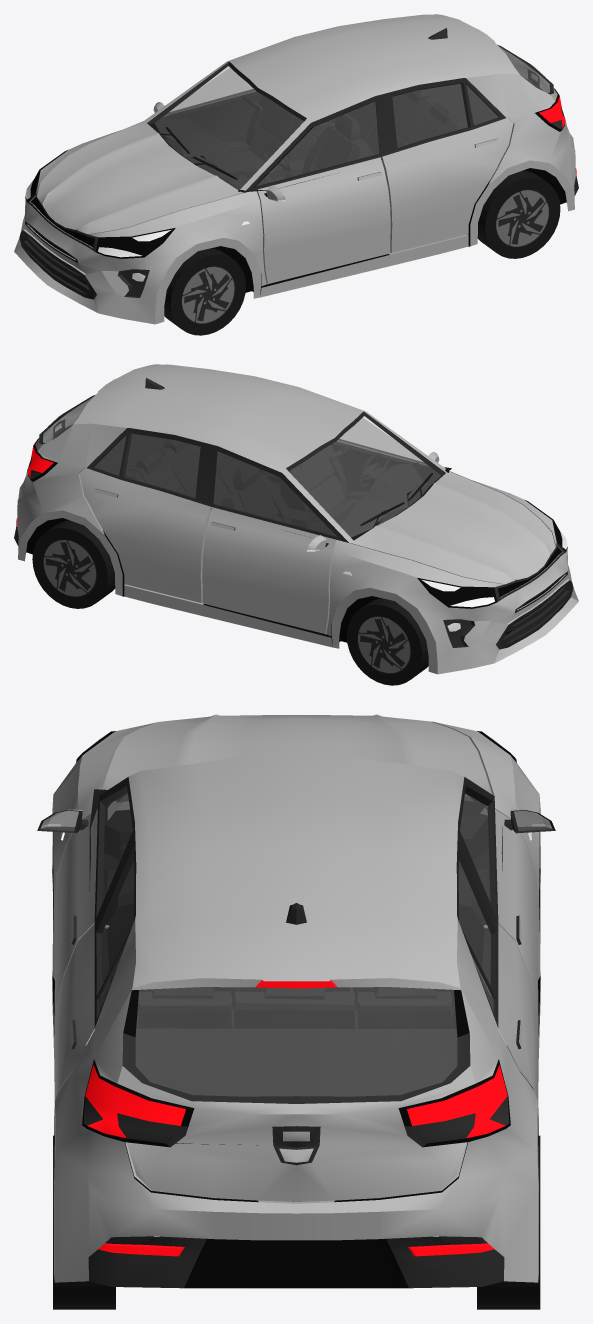
Rendered from ElkaBlack.fbx.
3 renders of one model, top to bottom at view 1: azimuth 30°, elevation 25°; view 2: azimuth 150°, elevation 25°; view 3: azimuth 270°, elevation 25°, orthographic. The views are drawn at different scales.
Parts seen in each view (by area): view 1: Body, Interior, RearLeftWheel, FrontLeftWheel; view 2: Body, Interior, RearRightWheel, FrontRightWheel; view 3: Body, Interior, RearRightWheel, RearLeftWheel.
Boxes of the visible parts, x1,y1,x2,y2 form: Body: [14, 14, 578, 324]; Interior: [149, 76, 542, 192]; RearLeftWheel: [477, 170, 560, 258]; FrontLeftWheel: [164, 248, 245, 335]; Body: [14, 364, 578, 674]; Interior: [52, 424, 451, 540]; RearRightWheel: [32, 520, 115, 608]; FrontRightWheel: [346, 598, 428, 685]; Body: [37, 714, 555, 1288]; Interior: [89, 789, 502, 1145]; RearRightWheel: [477, 1135, 540, 1309]; RearLeftWheel: [53, 1135, 115, 1309].
Size of the model in its own units: 406 by 148 by 184.
Materials: 12 (4 with a texture image).
